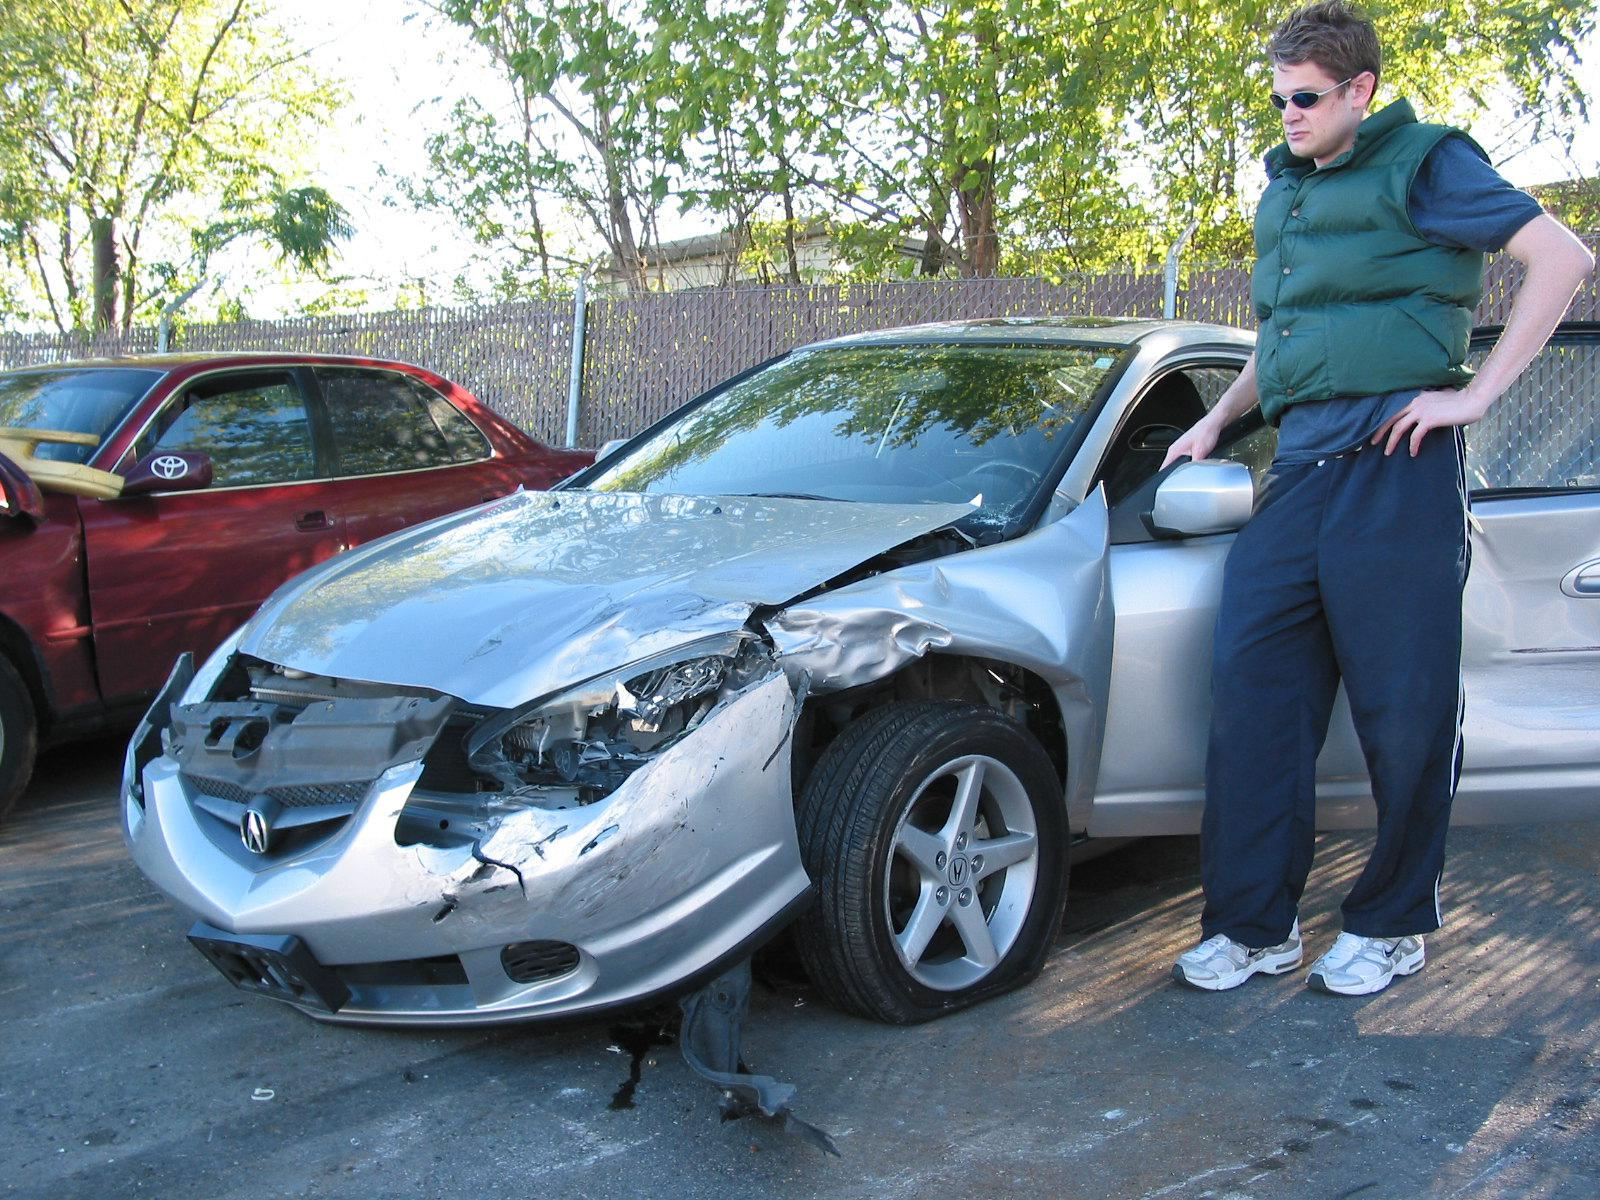bonnet-dent: (291, 507, 867, 707)
fender-dent: (808, 557, 1133, 713)
front-bumper-dent: (305, 790, 794, 1040)
